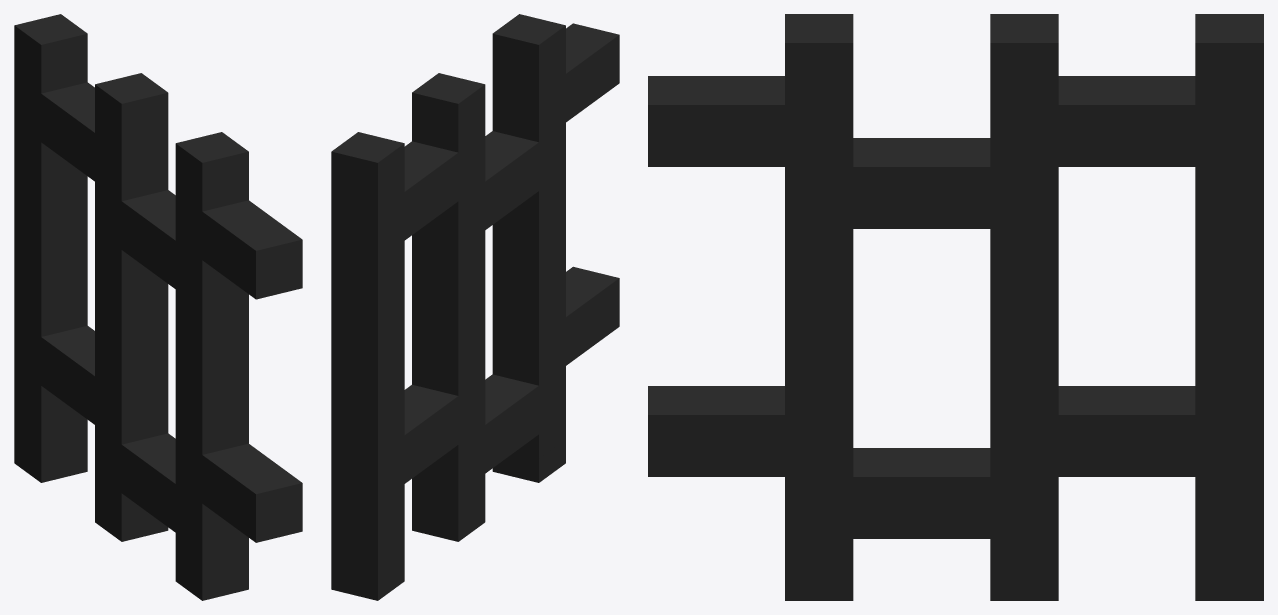
Rendered from fbBars.fbx.
The picture shows the model from 3 angles, left to right: view 1: azimuth 30°, elevation 25°; view 2: azimuth 150°, elevation 25°; view 3: azimuth 270°, elevation 25°; orthographic projection. The views are drawn at different scales.
Visible parts, largest first — view 1: fbBrick_01_K.001; view 2: fbBrick_01_K.001; view 3: fbBrick_01_K.001.
Boxes of the visible parts, x1,y1,x2,y2 form: fbBrick_01_K.001: [14, 14, 302, 600]; fbBrick_01_K.001: [331, 14, 619, 600]; fbBrick_01_K.001: [648, 14, 1263, 600].
Bounding box in the file's own units: 10 × 90 × 90.
1 material, 1 textured.
